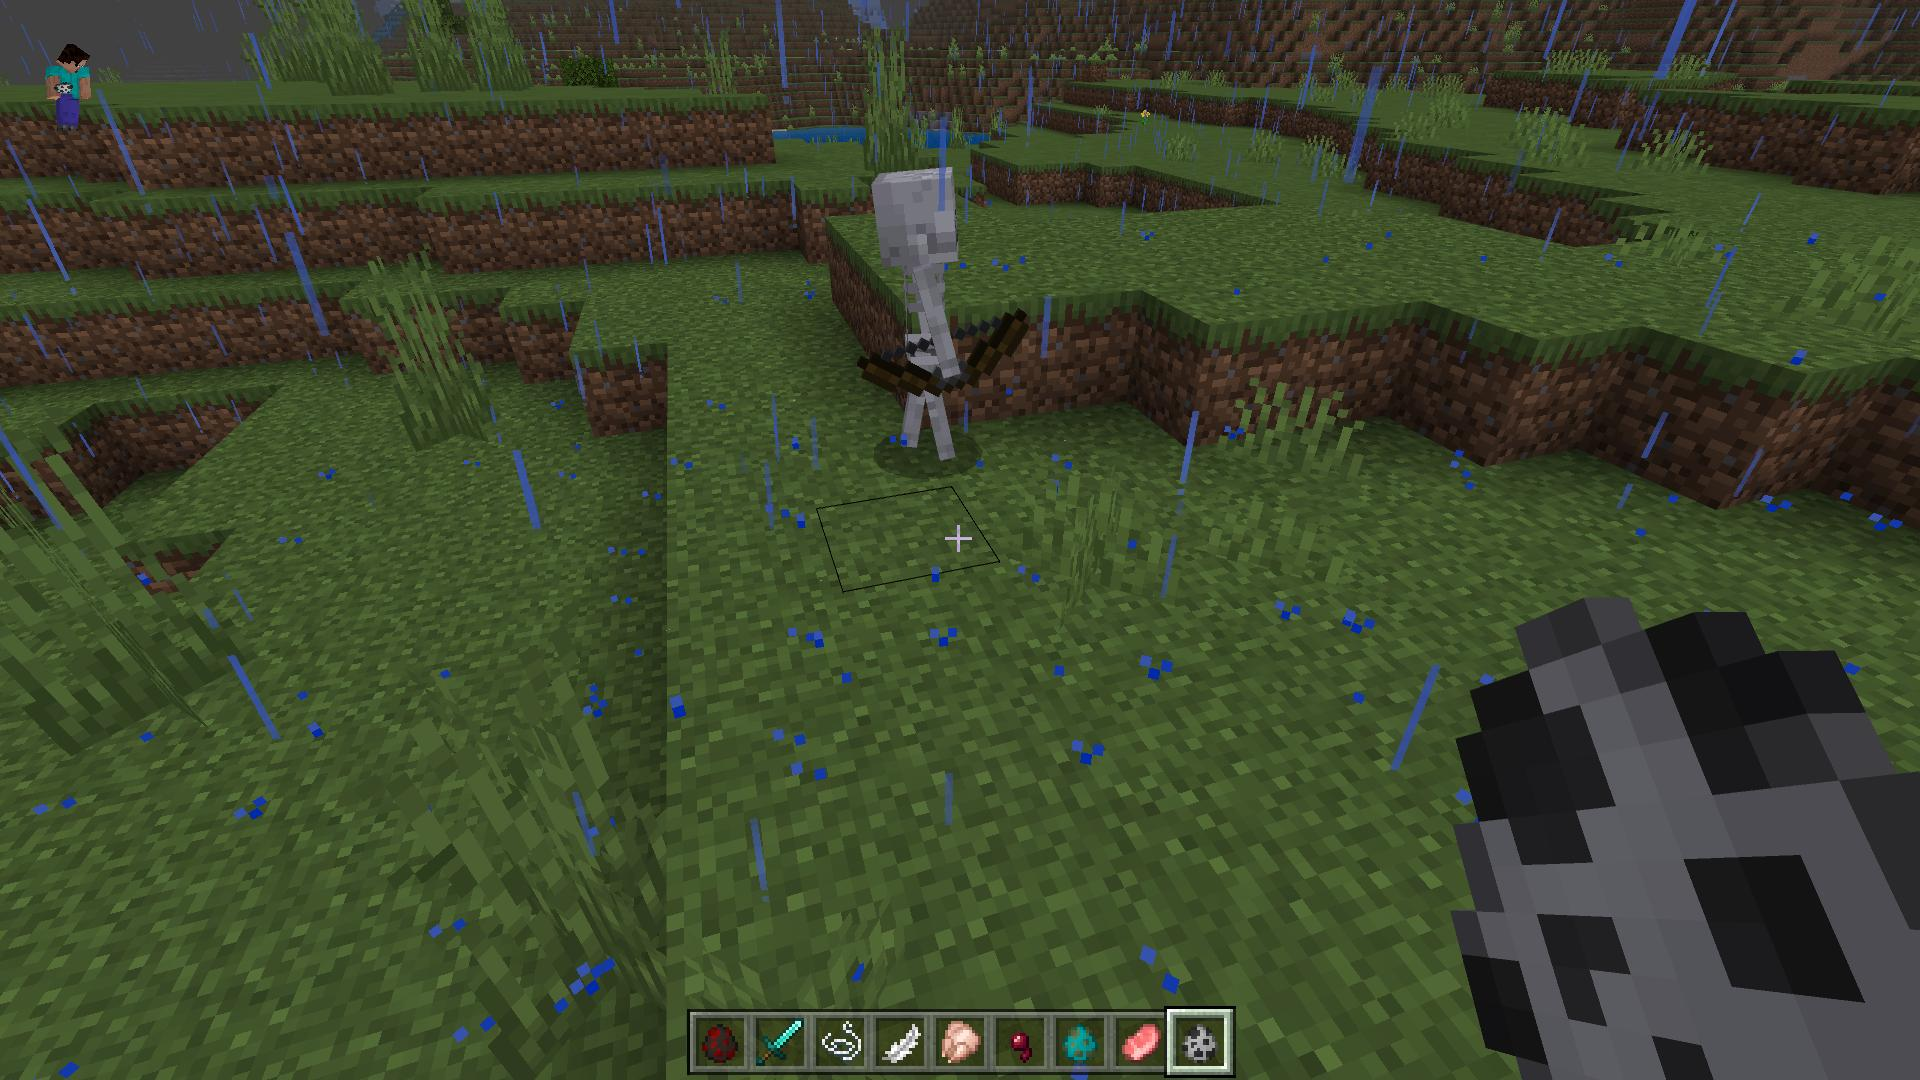skeleton: (860, 162, 1027, 467)
